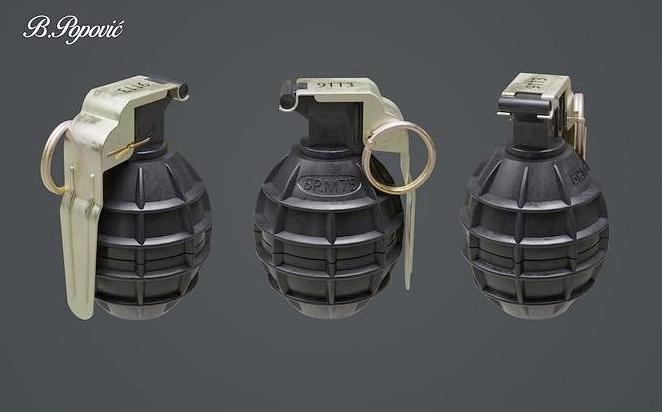Grenade: (254, 77, 435, 320), (41, 75, 212, 321), (460, 72, 609, 321)
